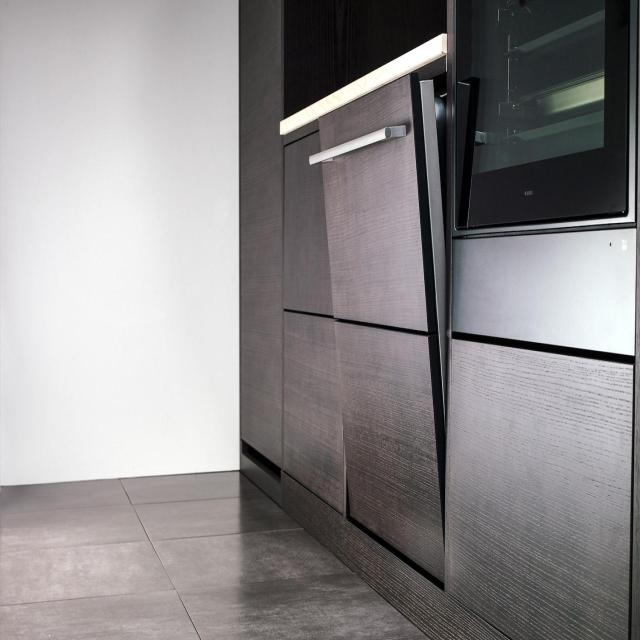dishwasher: (308, 51, 455, 596)
